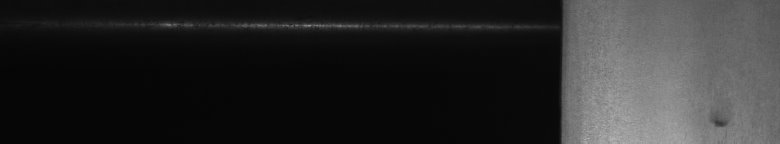fi: (711, 116, 732, 132)
